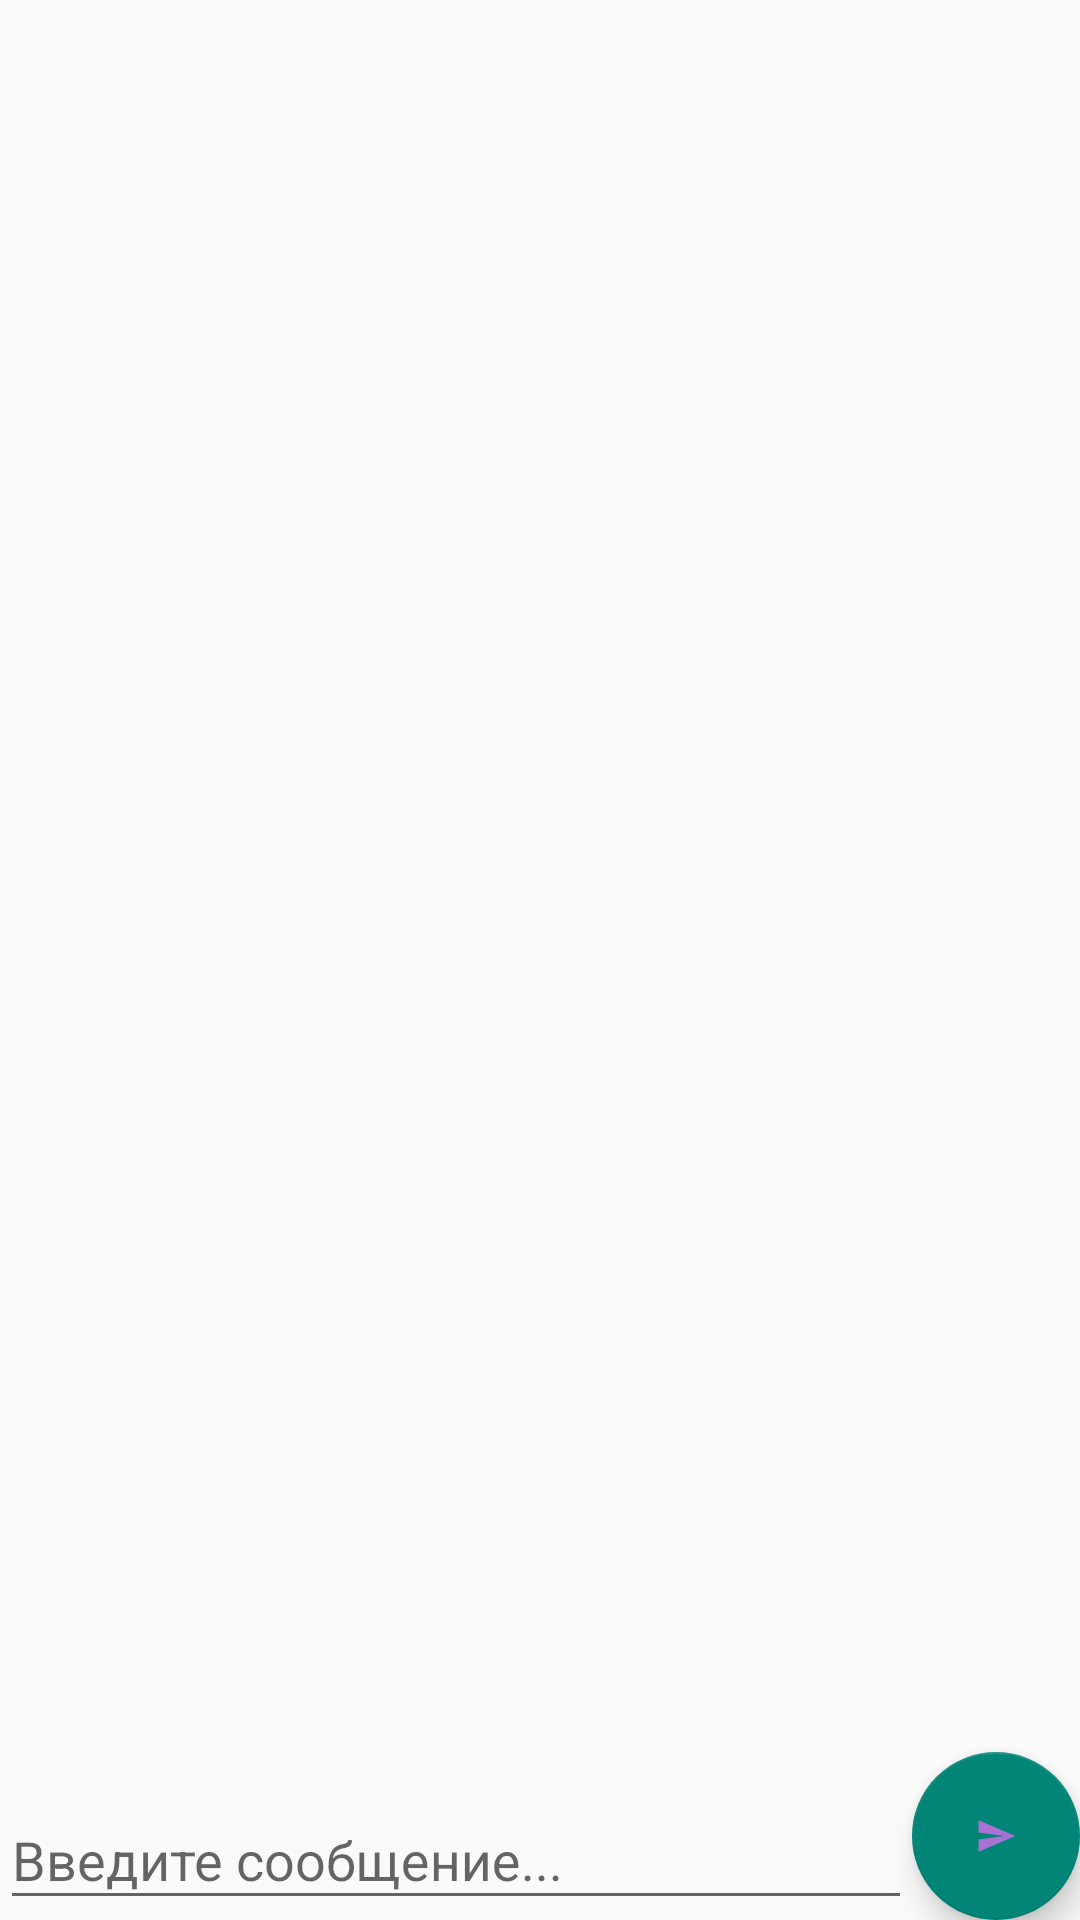

Screen size 1080px×1920px. Icon name, then its center in pixels as point (x, y):
send: point (996, 1836)
